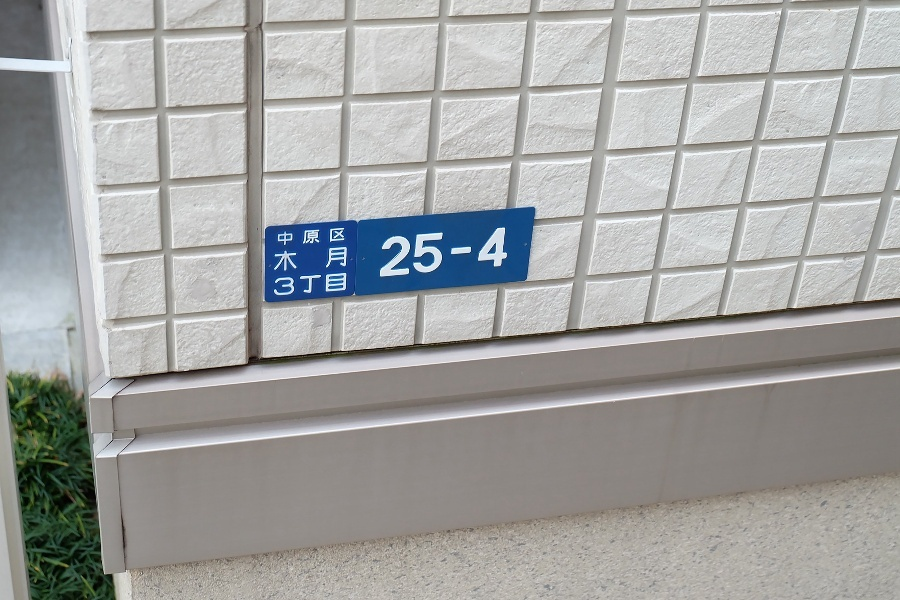text: (385, 226, 400, 279), (401, 226, 416, 279), (417, 226, 432, 279), (433, 226, 448, 279), (449, 226, 464, 279), (465, 226, 480, 279), (481, 226, 496, 279), (497, 226, 509, 279), (273, 272, 288, 299), (289, 272, 304, 299), (305, 272, 320, 299), (321, 272, 336, 299), (289, 246, 304, 272), (305, 246, 320, 272), (321, 246, 336, 272), (274, 246, 288, 272), (378, 226, 384, 279), (337, 272, 348, 299), (337, 246, 348, 272), (289, 228, 304, 247), (305, 228, 320, 247), (321, 228, 336, 247), (278, 228, 288, 247), (337, 228, 346, 247)
